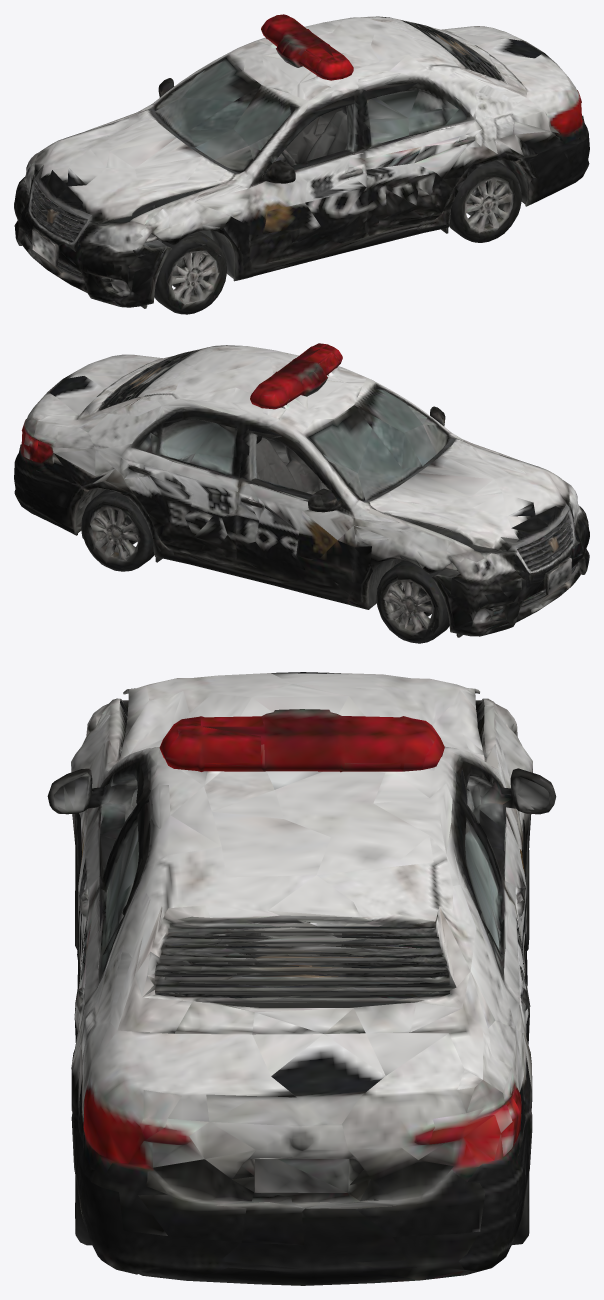
The model's file is police-car.glb.
3 renders of one model, top to bottom at view 1: azimuth 30°, elevation 25°; view 2: azimuth 150°, elevation 25°; view 3: azimuth 270°, elevation 25°, orthographic. The views are drawn at different scales.
Visible parts, largest first — view 1: Mesh_0; view 2: Mesh_0; view 3: Mesh_0.
Boxes of the visible parts, x1,y1,x2,y2 form: Mesh_0: (14,14,589,314); Mesh_0: (14,343,589,643); Mesh_0: (47,672,556,1285).
Bounding box in the file's own units: 1.9 × 0.692 × 0.8168.
Materials: 1 (1 with a texture image).
